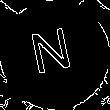N_S: (30, 26, 80, 84)
